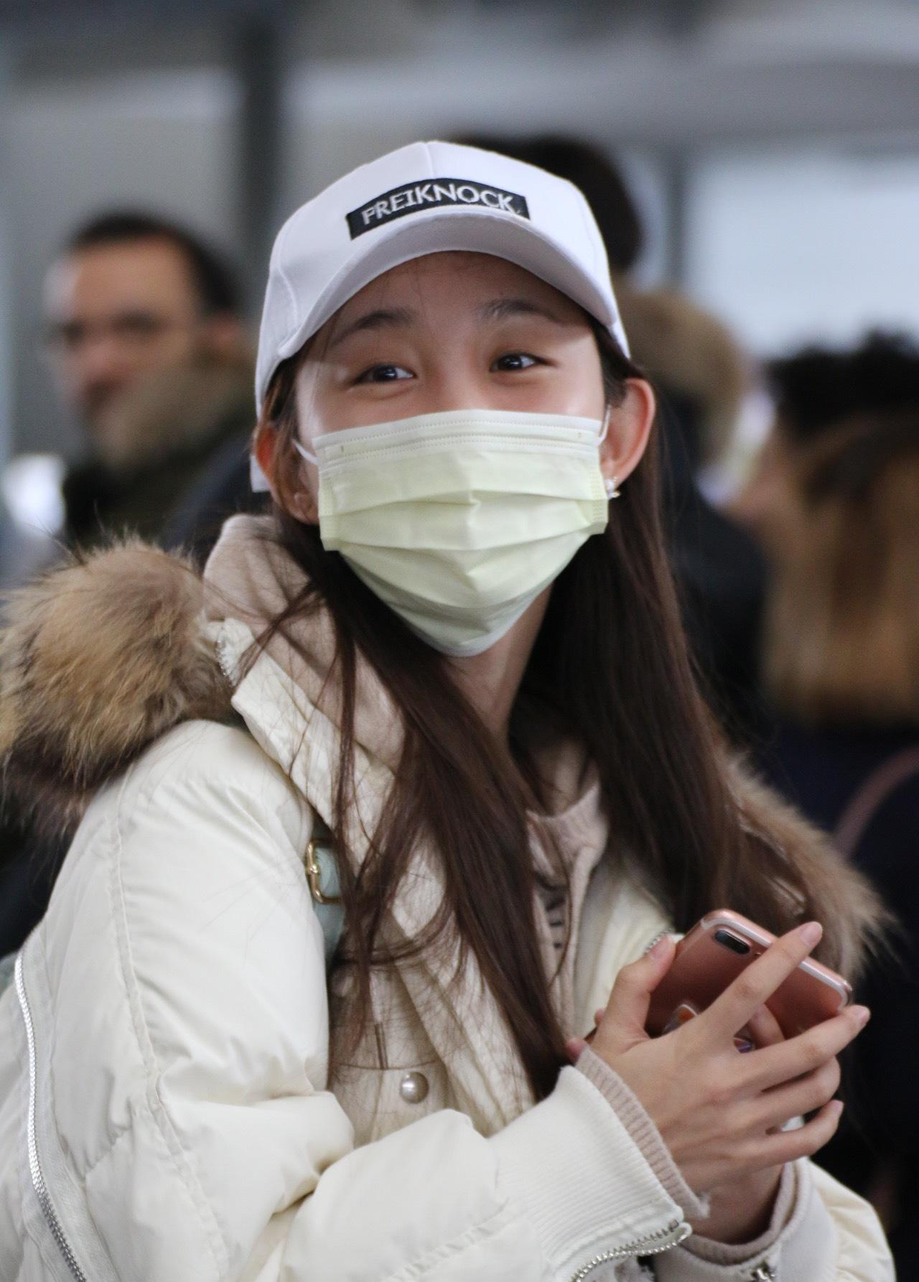NONE: (48, 274, 210, 435)
OK: (274, 314, 612, 638)
